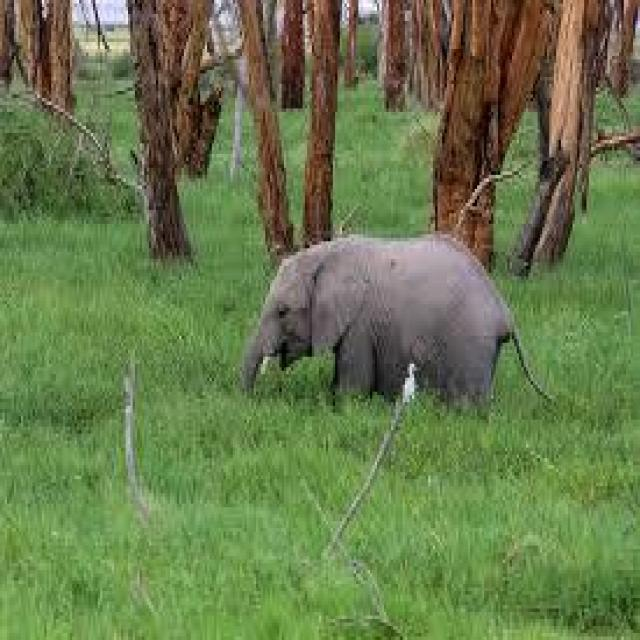Elephant: (240, 234, 510, 420)
